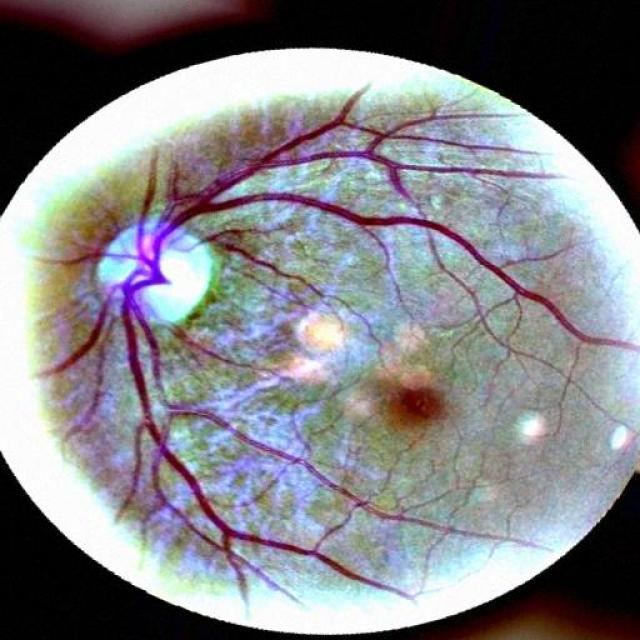Macula: (388, 386, 442, 425)
Nerves: (44, 91, 639, 598), (172, 325, 279, 378), (199, 229, 304, 280)
Optic Disk: (100, 218, 216, 322)
